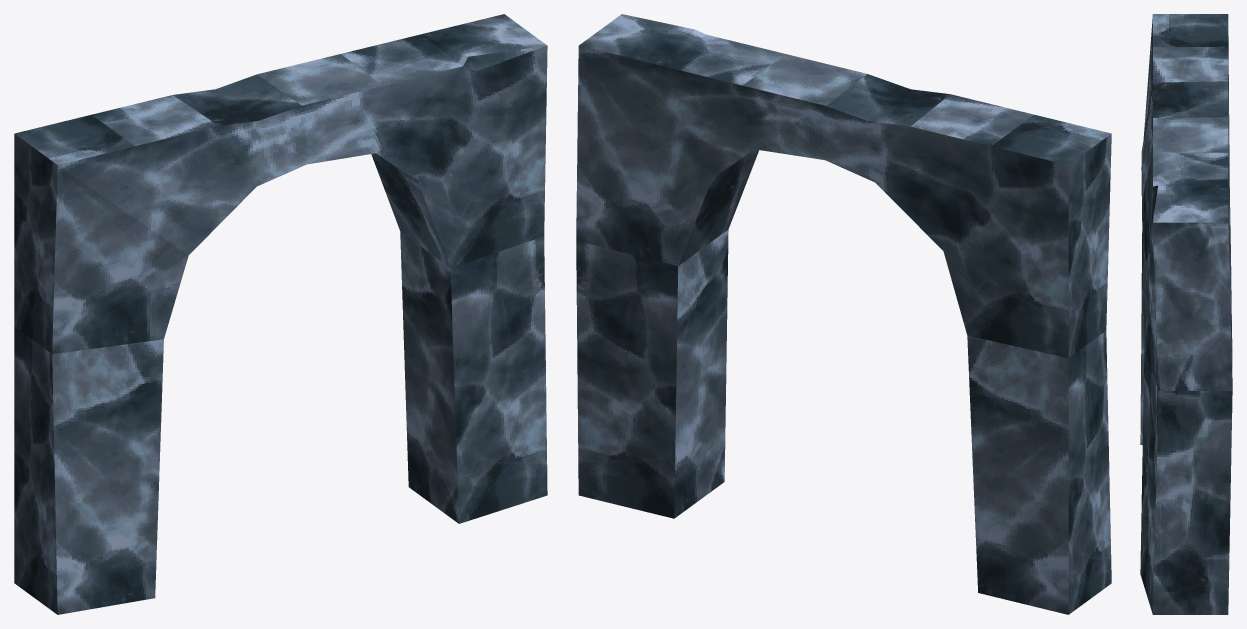
The model's file is item_castle_archway_ice.glb.
3 views of the same model, side by side, from view 1: azimuth 30°, elevation 25°; view 2: azimuth 150°, elevation 25°; view 3: azimuth 270°, elevation 25° (orthographic). The views are drawn at different scales.
Visible parts, largest first — view 1: Archway; view 2: Archway; view 3: Archway.
Part boxes in pixels (x1,y1,x2,y2): Archway: (14,14,547,614); Archway: (576,14,1111,614); Archway: (1140,14,1232,614).
Bounding box in the file's own units: 1.93 × 1.71 × 0.3597.
1 material, 1 textured.
